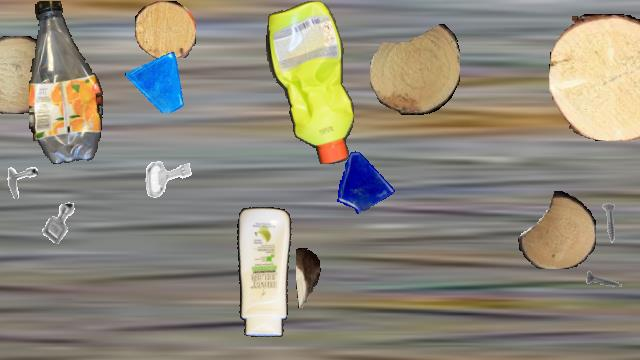glass: (331, 148, 397, 214), (125, 50, 187, 112)
metal: (137, 148, 197, 208), (31, 195, 87, 251), (585, 258, 627, 300), (589, 202, 631, 244), (0, 156, 38, 198)
plastic: (265, 1, 355, 163), (29, 1, 105, 163), (230, 207, 294, 337)
wood: (549, 14, 640, 140), (370, 23, 460, 115), (518, 191, 596, 269), (0, 36, 54, 114), (135, 1, 195, 59), (296, 248, 320, 308)
